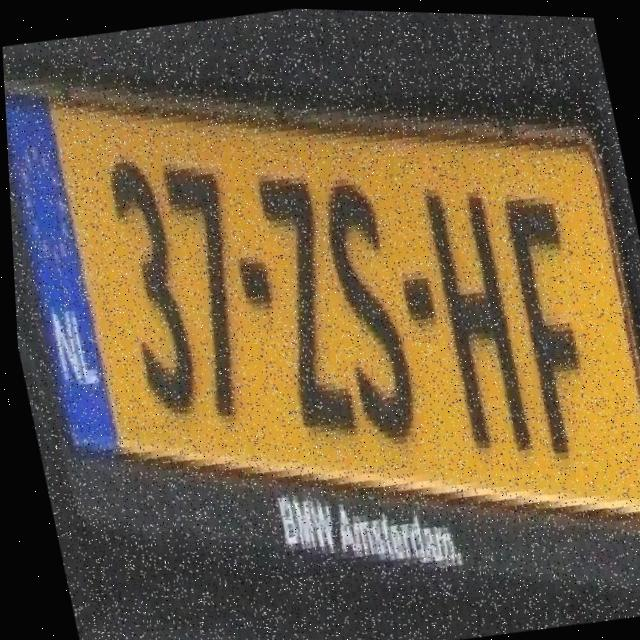LicensePlate: (0, 0, 640, 616)
